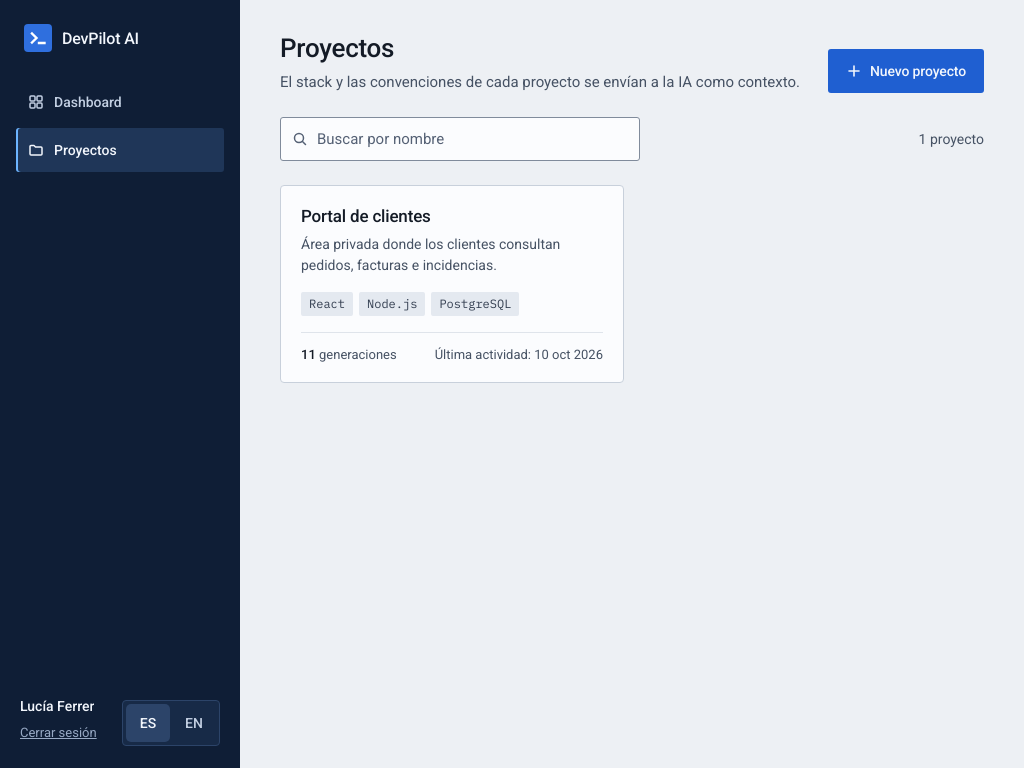
Test case: routes with a session › switches the interface to English
This screenshot has width=1024, height=768.
Click the button "EN" at x=194, y=723, box [172,704,216,742]
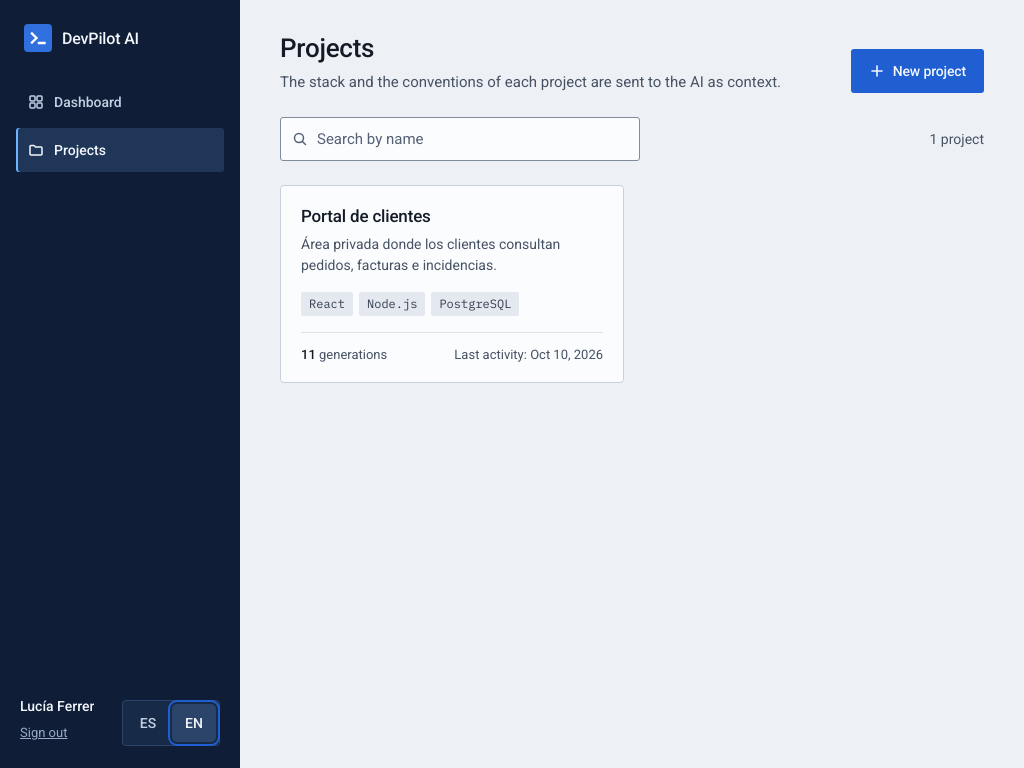
Expected: the heading "Projects" is shown, [280,33,374,63]
Expected: the button "Sign out" is shown, [20,716,67,748]
Expected: the text "Last activity: Oct 10, 2026" is shown, [454,347,603,362]
